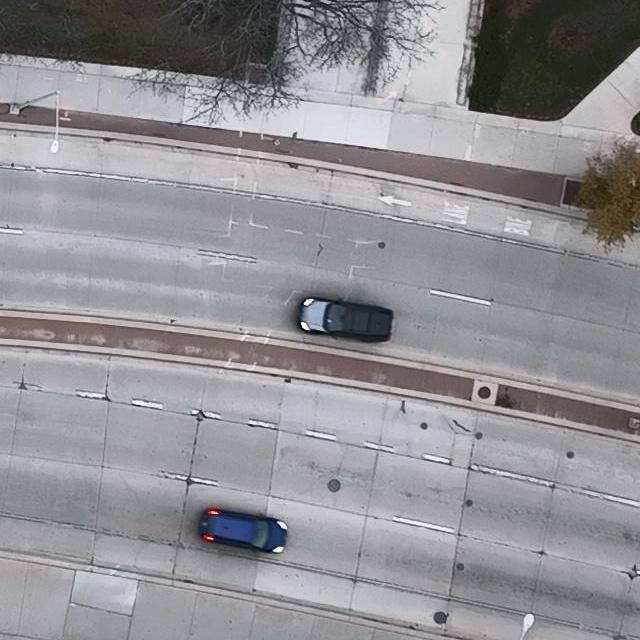car: (297, 297, 394, 343), (200, 506, 287, 554)
